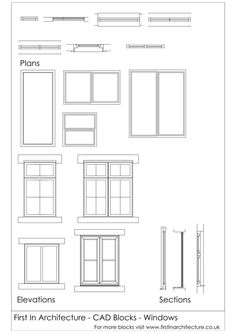window: (15, 33, 64, 58), (123, 38, 170, 55)
